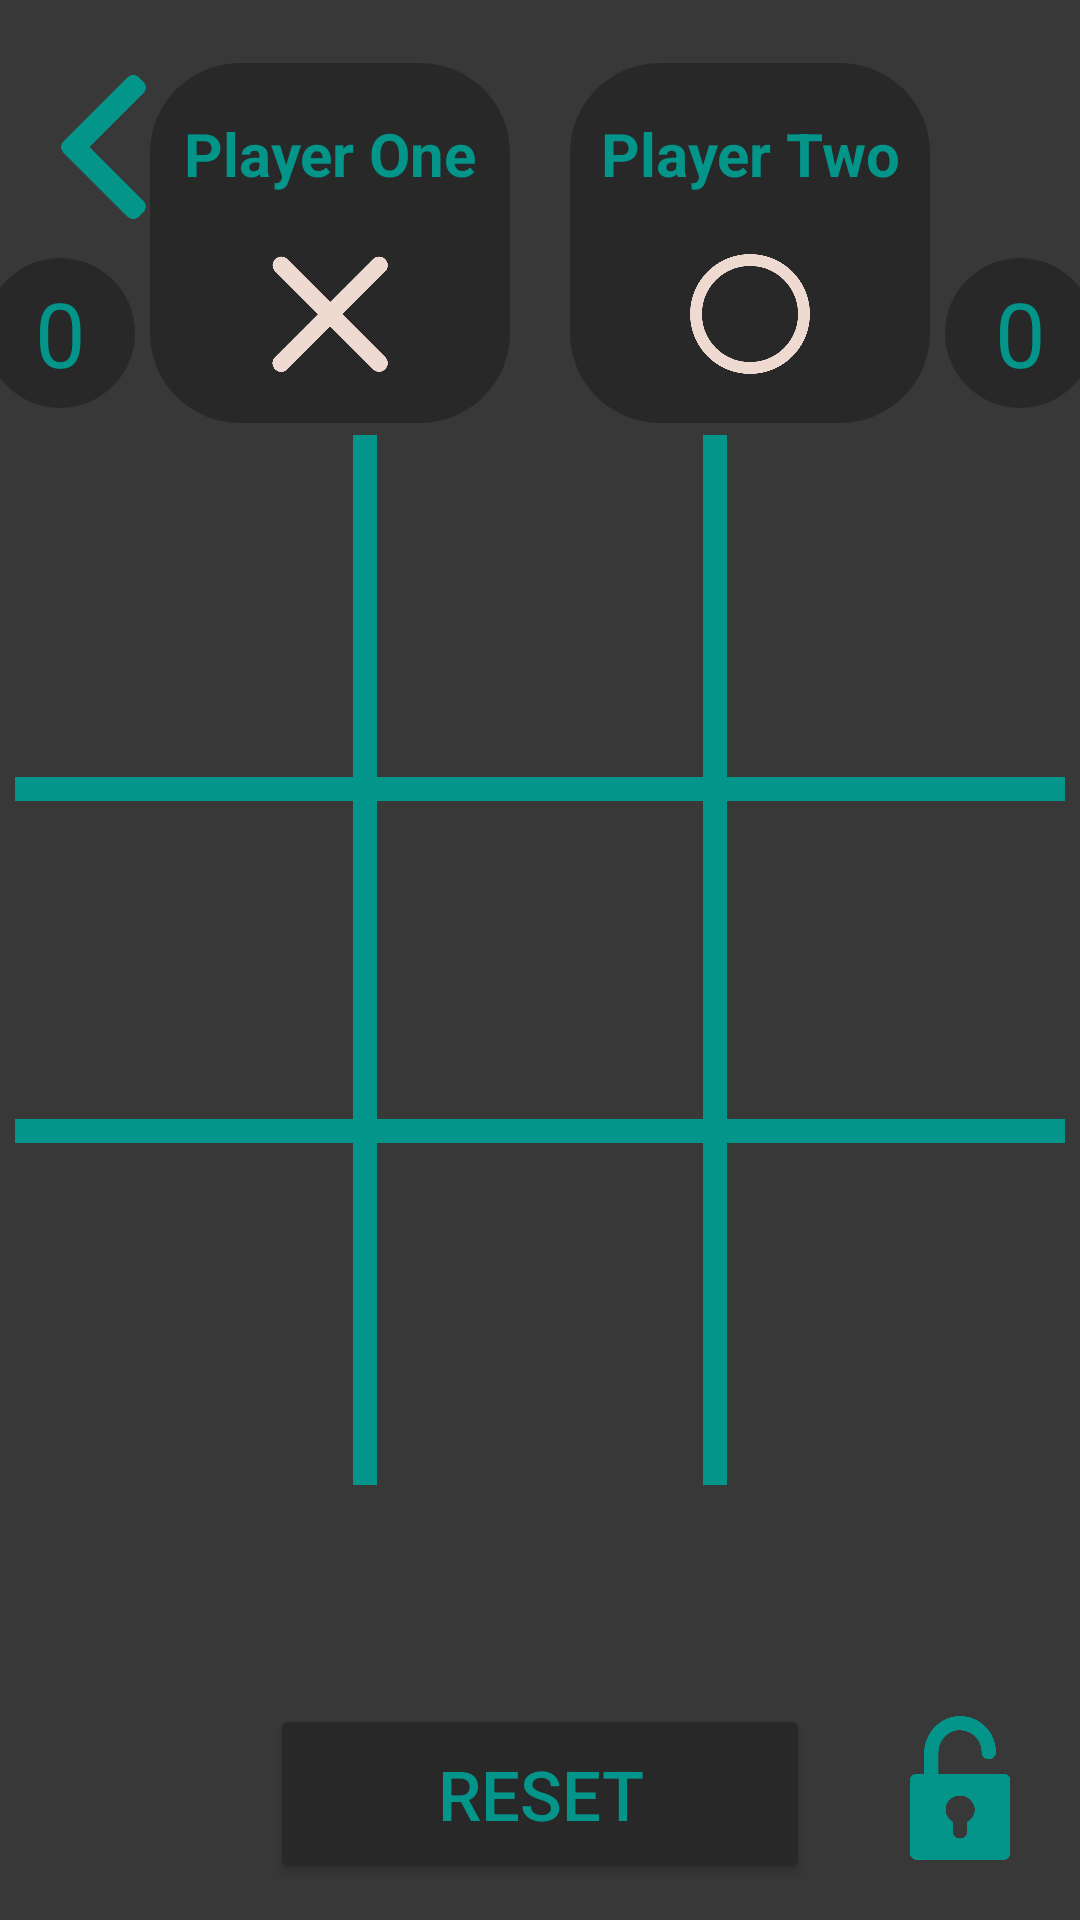

Icon click points for this 1080px x 1920px phone screenshot, format [x,y]:
back: [103,147]
circle: [750,314]
cross: [330,314]
